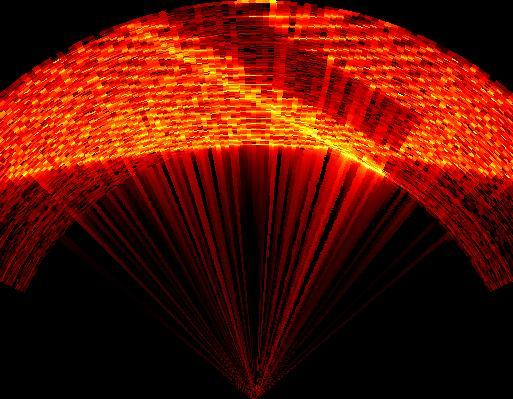pipe: (131, 6, 428, 174)
